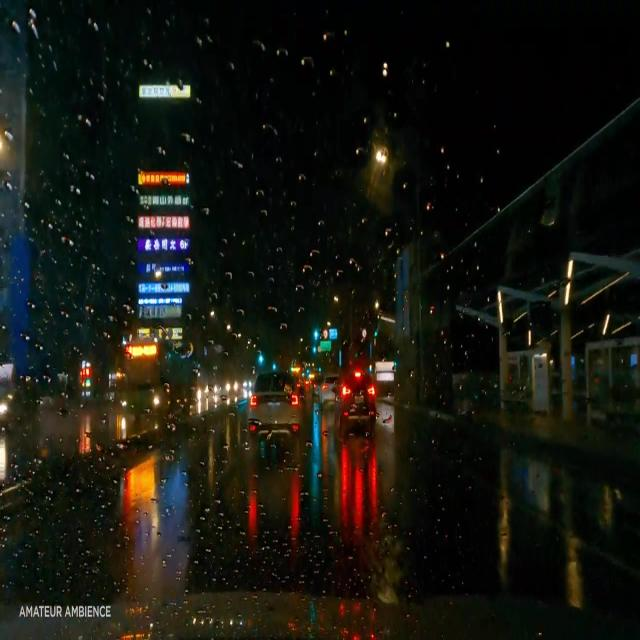Car: (120, 338, 192, 416), (247, 366, 304, 449), (332, 367, 376, 436), (318, 370, 337, 403)
